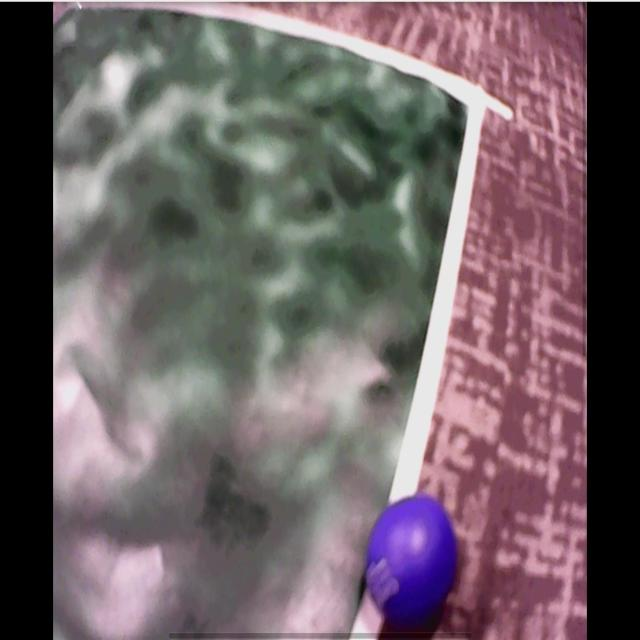ball: (365, 497, 458, 627)
